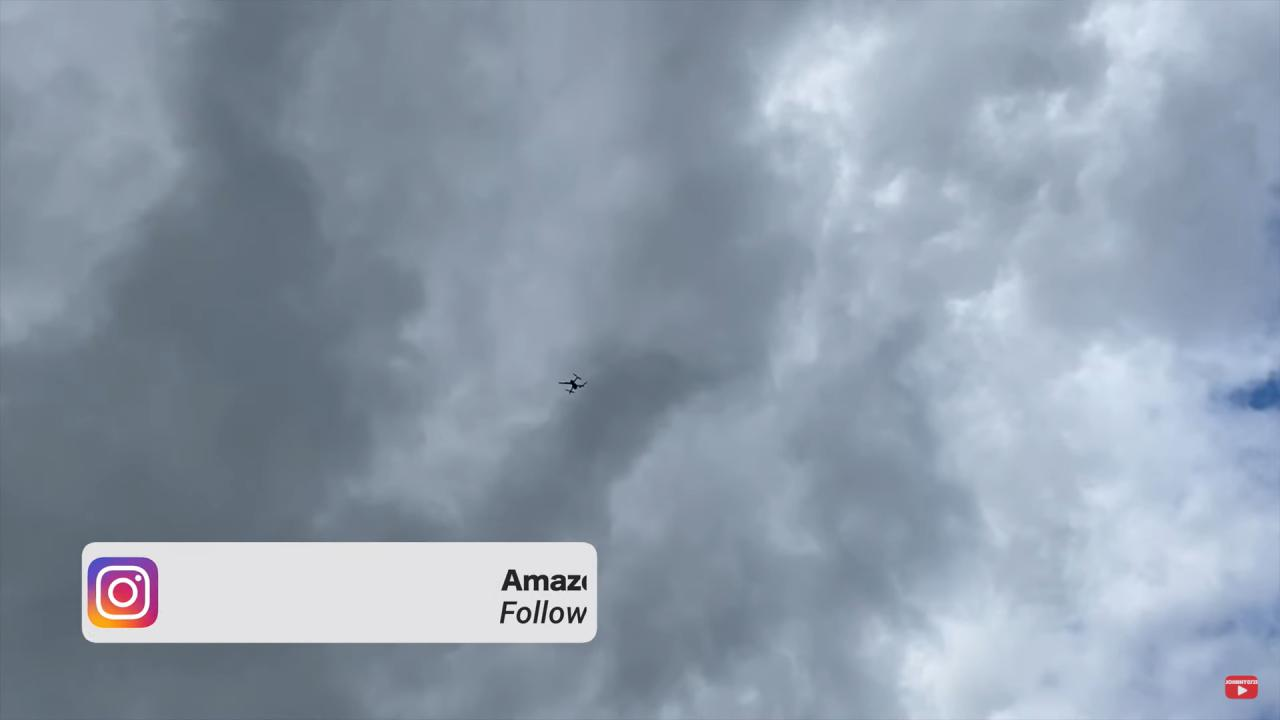Drone: (551, 364, 598, 406)
